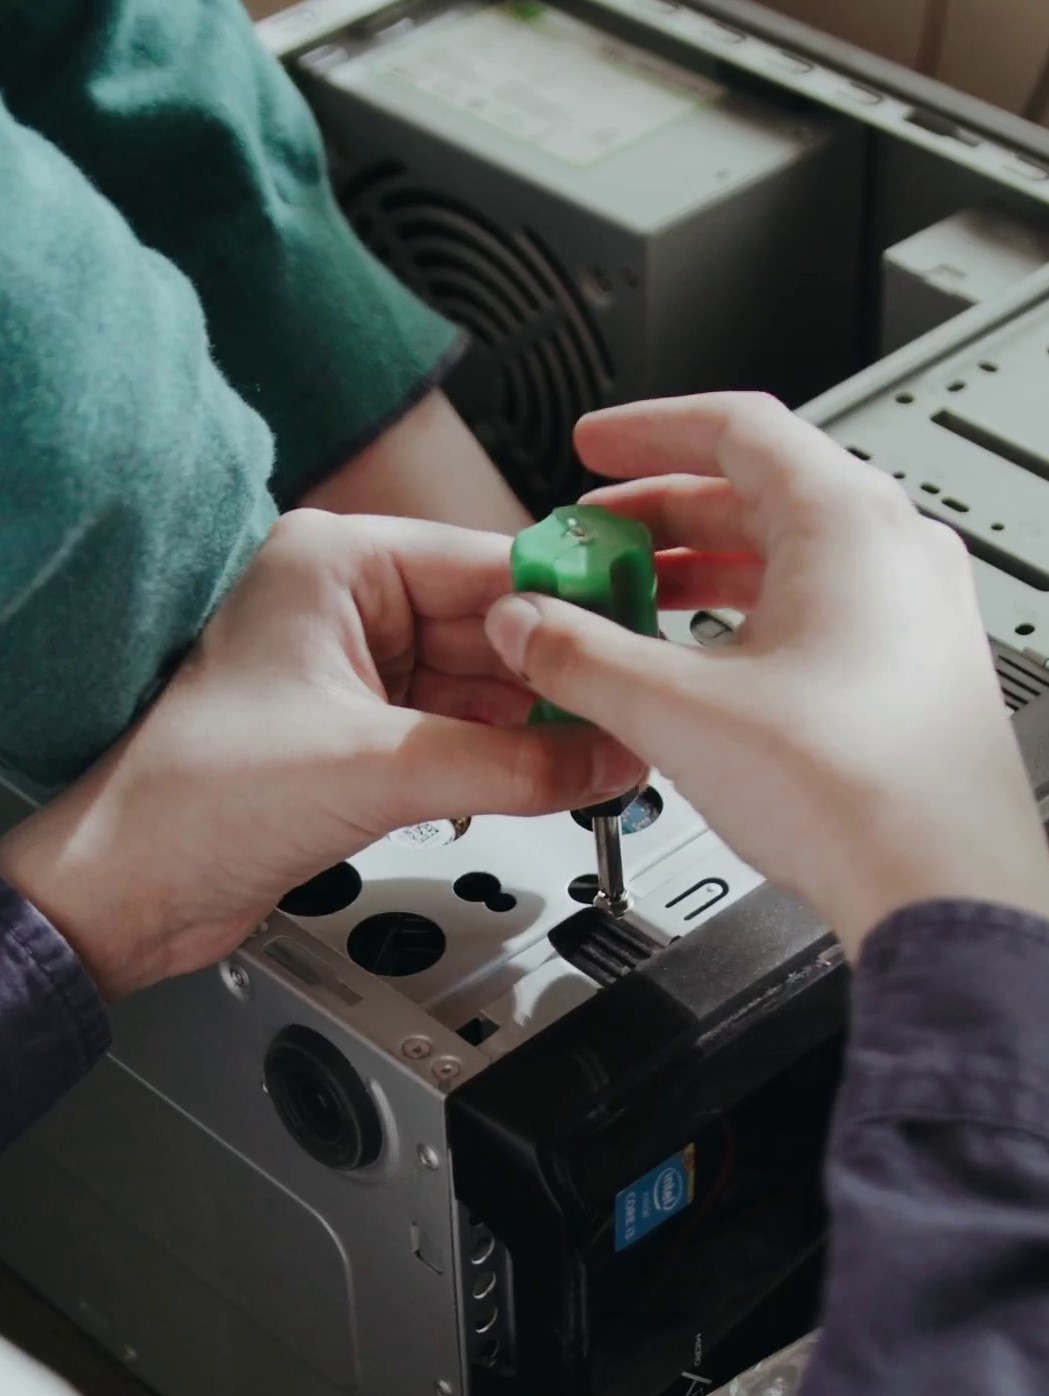hammer: (502, 493, 667, 891)
